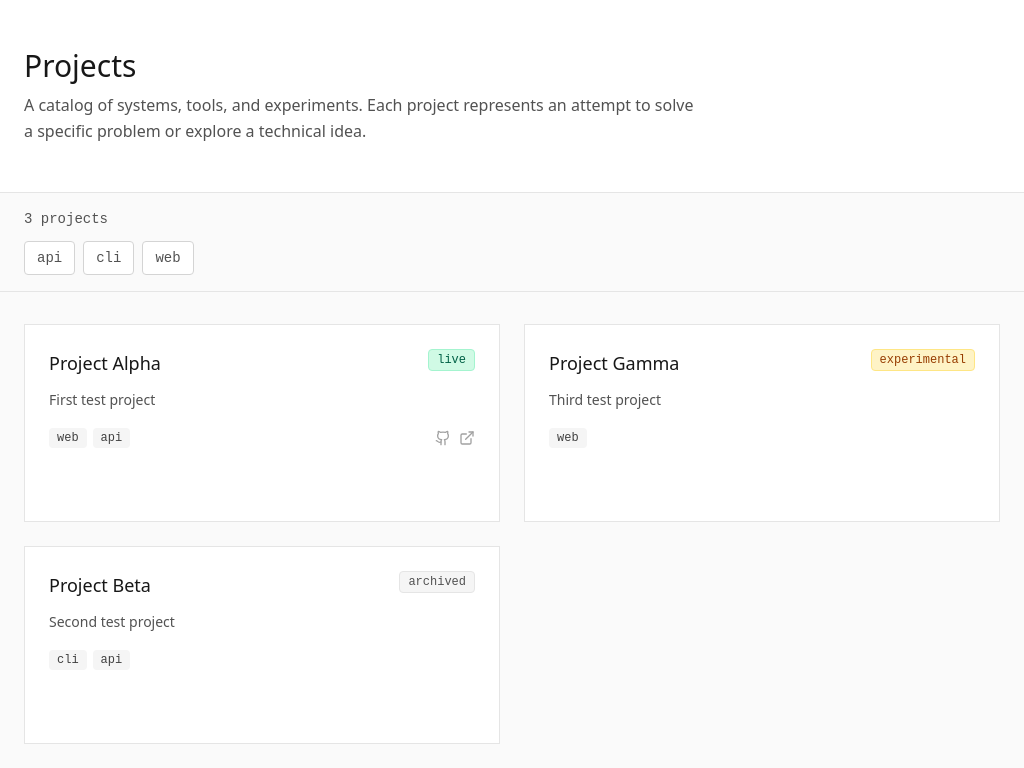
Test: ProjectList › shows empty state when no projects match
The image size is (1024, 768).
Select both 'cli' and 'web' via filter buttons — no project has both
Click the button "cli" at (109,258), box [83,241,134,275]
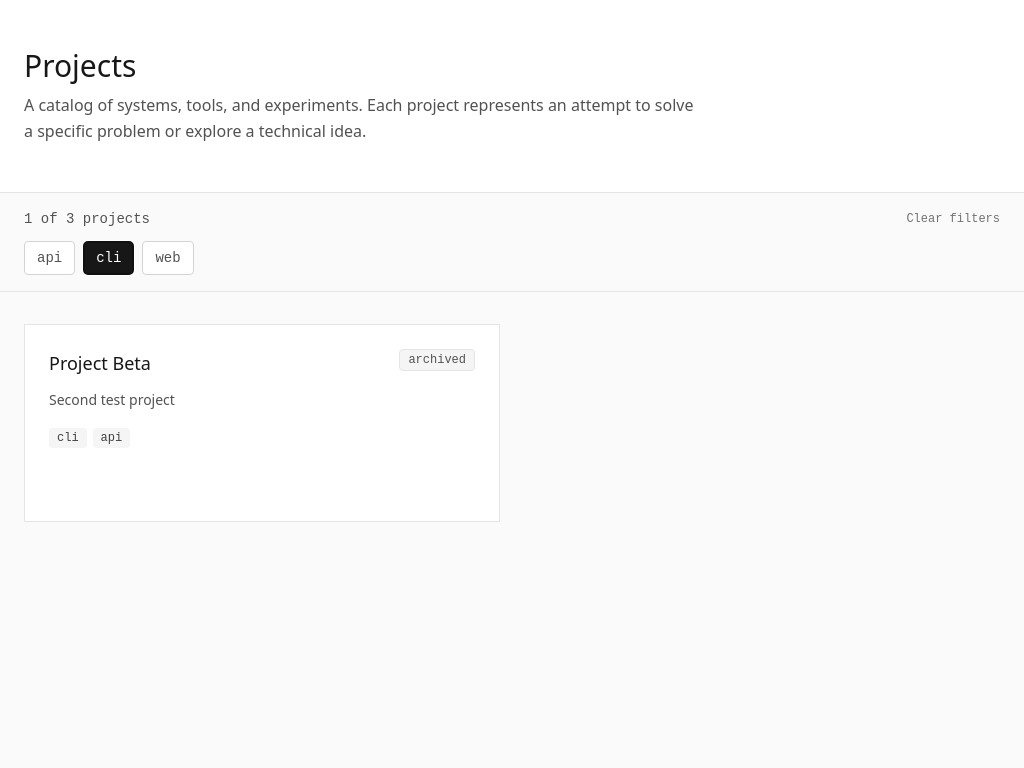
Click the button "web" at (168,258), box [142,241,194,275]
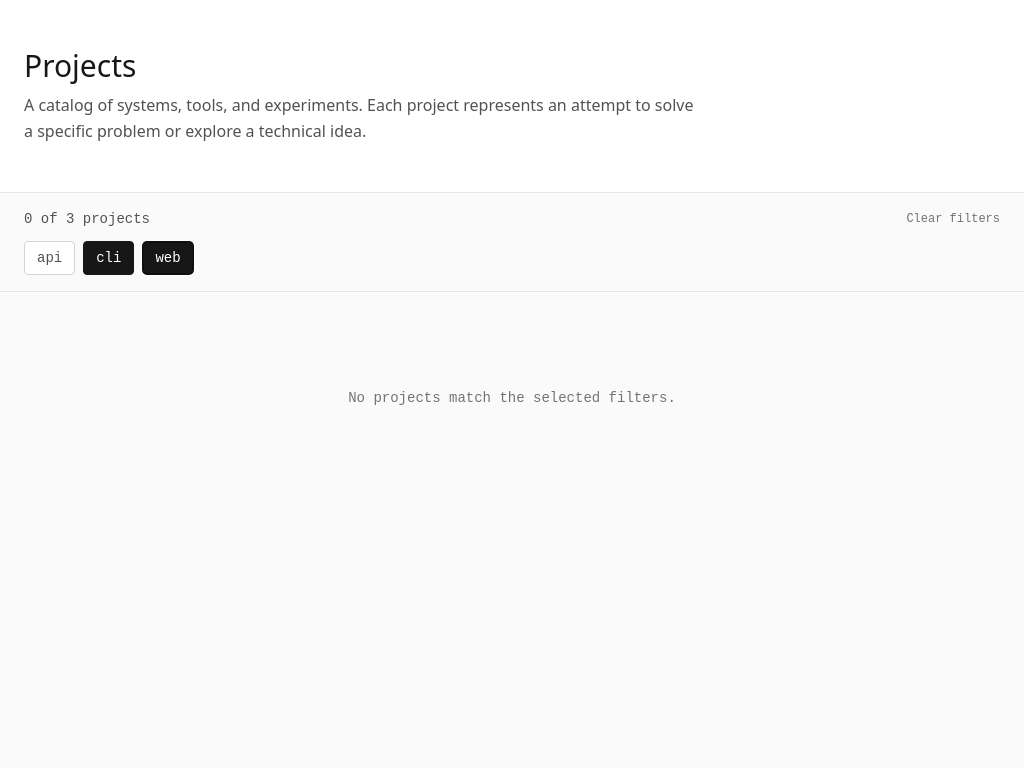
Check: the text "No projects match the selected filters." is shown, box [348,390,676,406]
